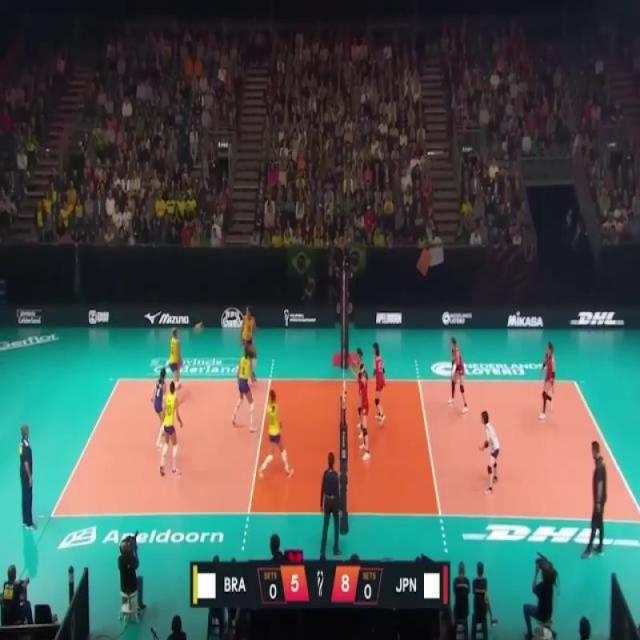volleyball: (193, 320, 204, 335)
